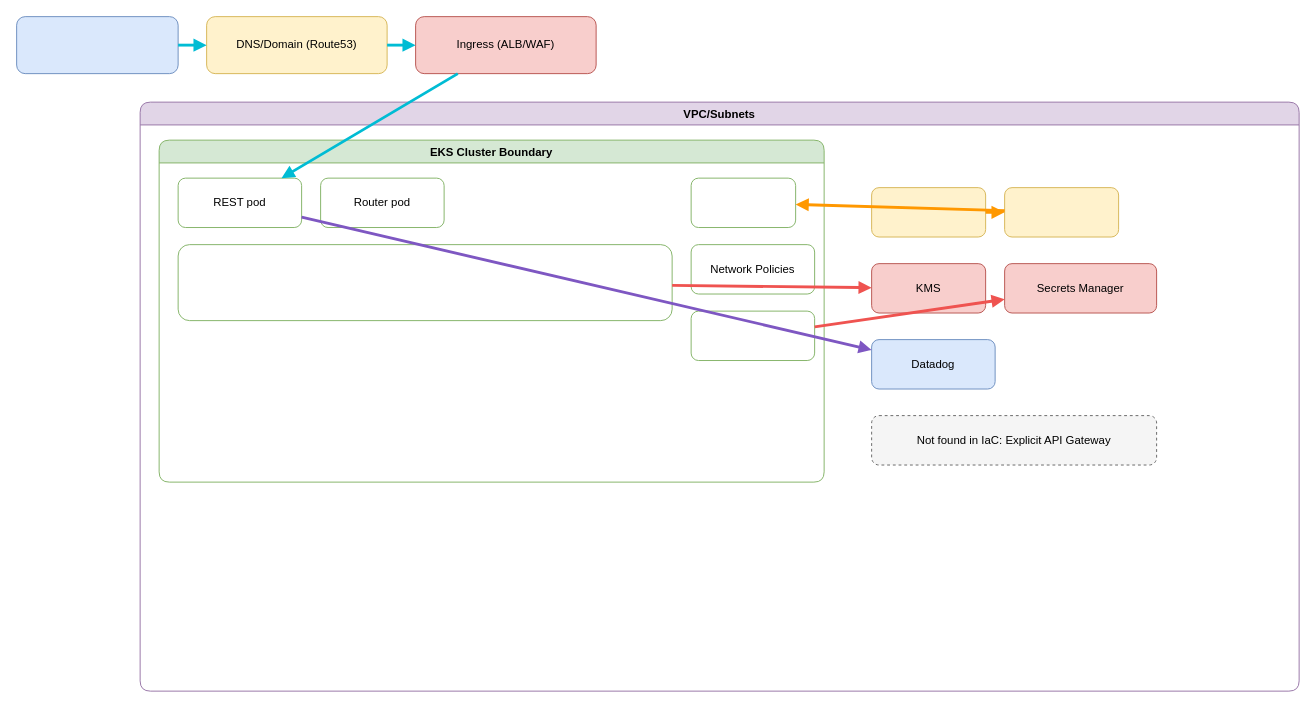
This 1316x708 diagram has some shape labels left out. The shapes that lost their labels are listed below. From the top down, each one's box as (x1, y1, x2, y2) in pixels, then its label:
(16, 16, 178, 74): Clients/Upstream
(690, 177, 796, 228): KEDA
(871, 187, 986, 237): SNS
(1004, 187, 1119, 237): SQS
(177, 244, 672, 321): Engine group: tika, imagemagick, libreoffice, misc, docfilters, docmerge, aio
(690, 310, 815, 361): Kubernetes Secrets
